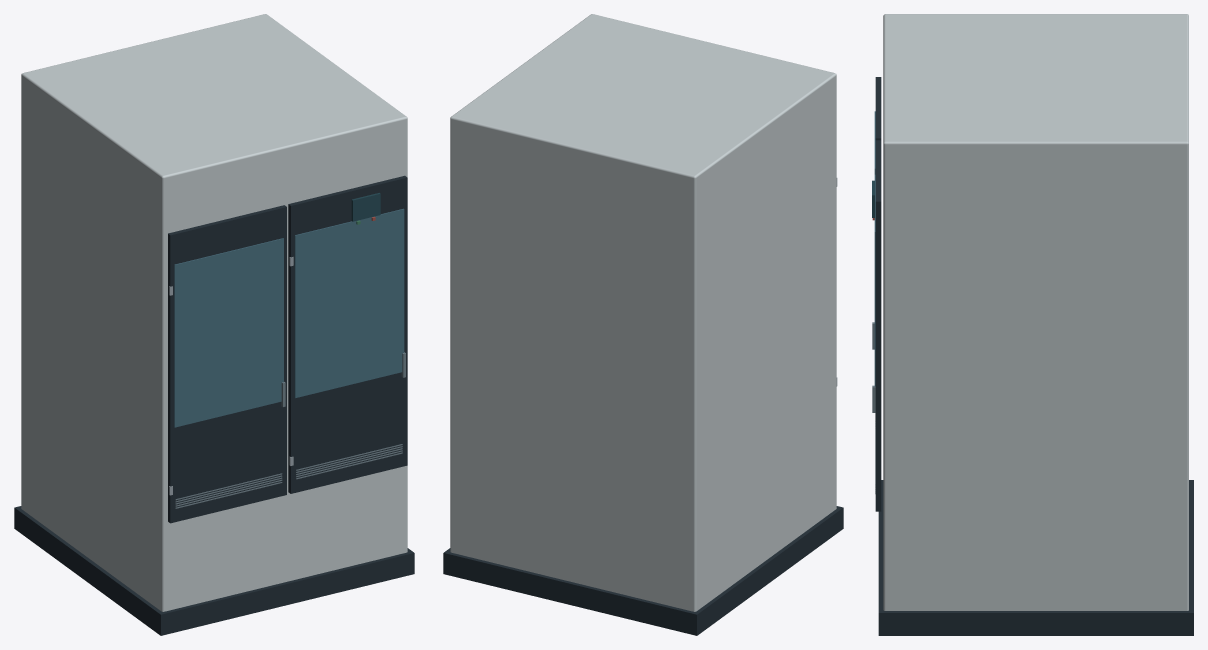
The model's file is lift.glb.
3 renders of one model, left to right at view 1: azimuth 30°, elevation 25°; view 2: azimuth 150°, elevation 25°; view 3: azimuth 270°, elevation 25°, orthographic. The views are drawn at different scales.
Bounding box in the file's own units: 2 × 3.44 × 2.04.
